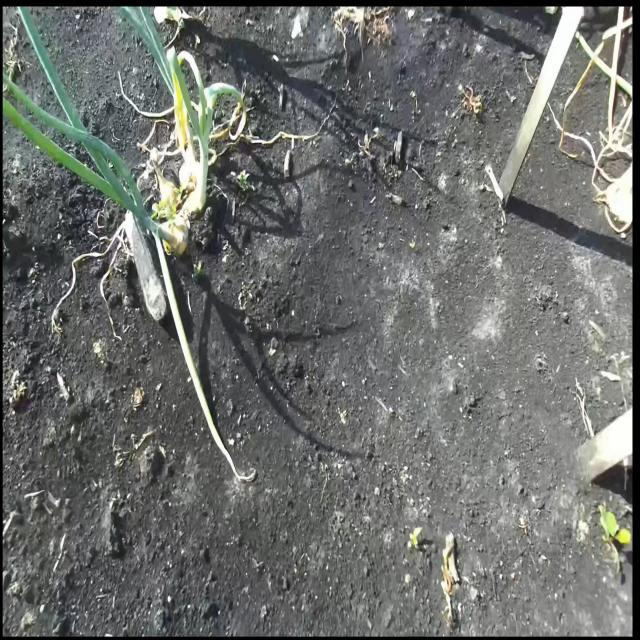onion: (161, 218, 189, 255), (178, 157, 202, 195), (156, 176, 178, 212)
